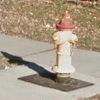a fire hydrant: (52, 9, 78, 75)
